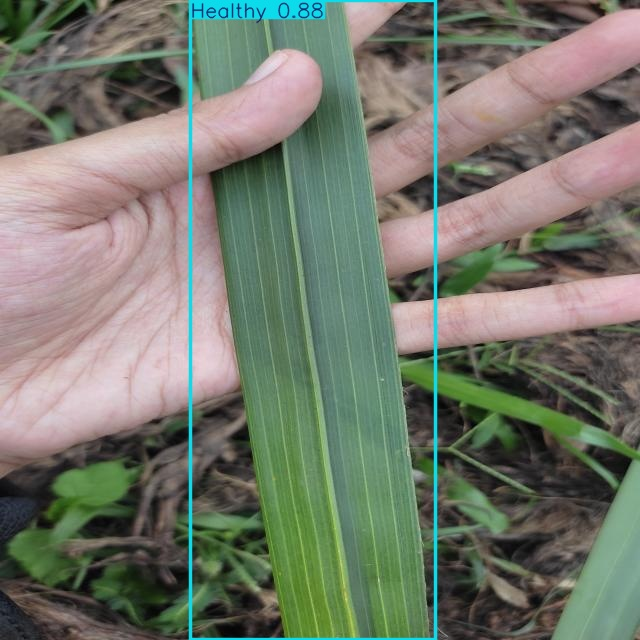Healthy: (191, 0, 436, 640)
